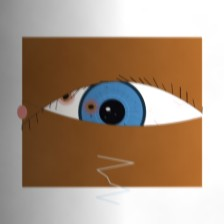foreign_body_visible: (49, 83, 83, 110)
